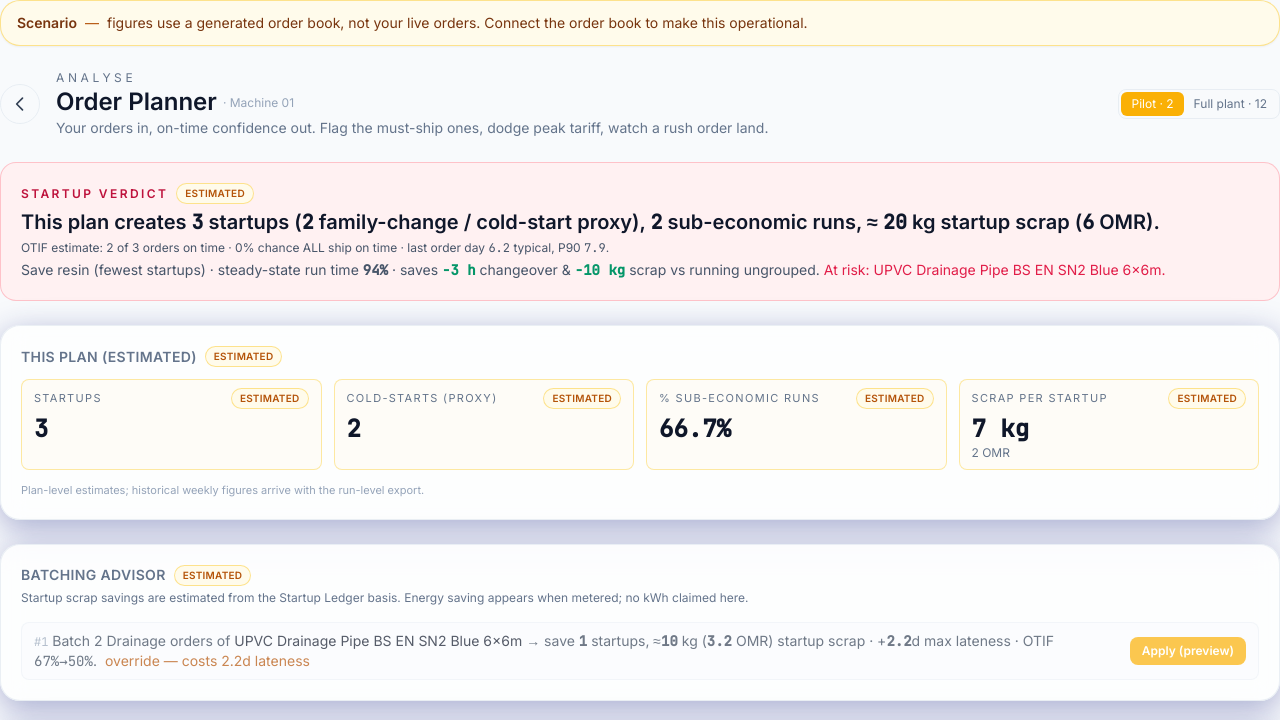
ProductionPlannerPage › renders Batching Advisor suggestions with preview apply, estimated chip, and override note
This screenshot has width=1280, height=720.
Expected: the heading "Batching Advisor" is shown, 21,565 -> 166,585
Click the button with aria-label "Apply batch preview": (1188, 650) 1130,636 -> 1246,664
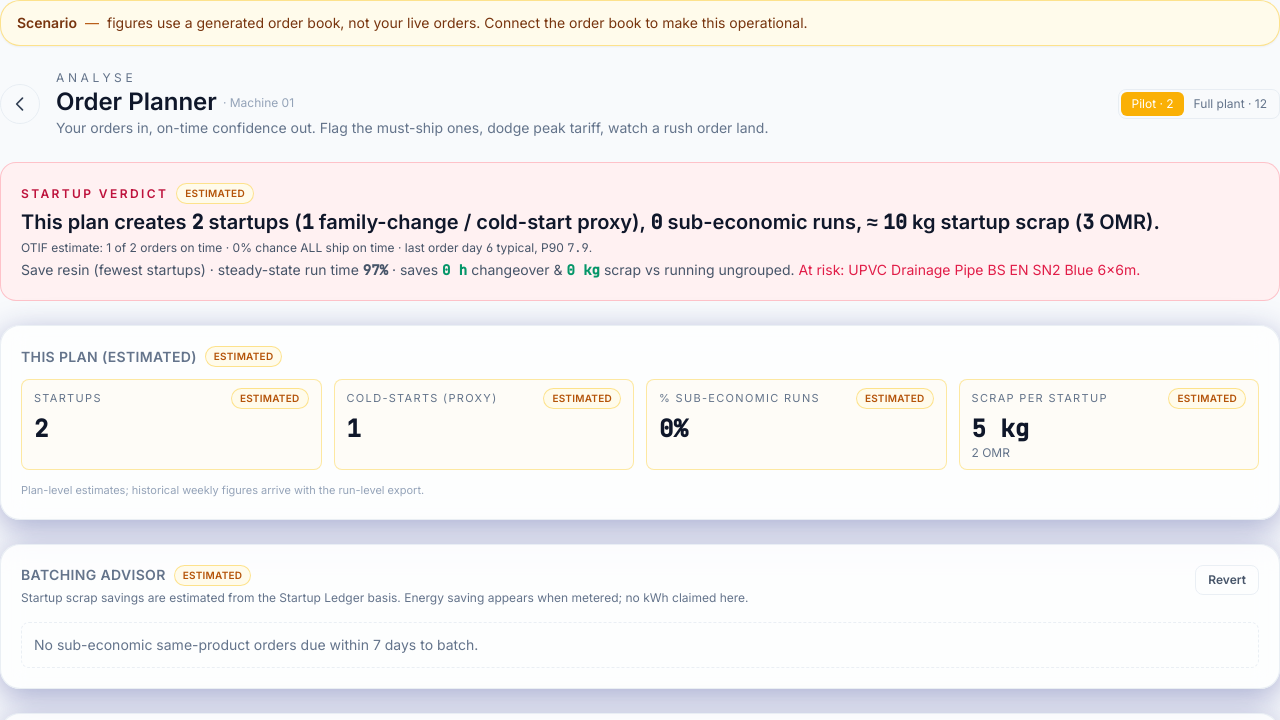
Expected: the button with aria-label "Revert batch preview" is shown, 1195,564 -> 1259,594
